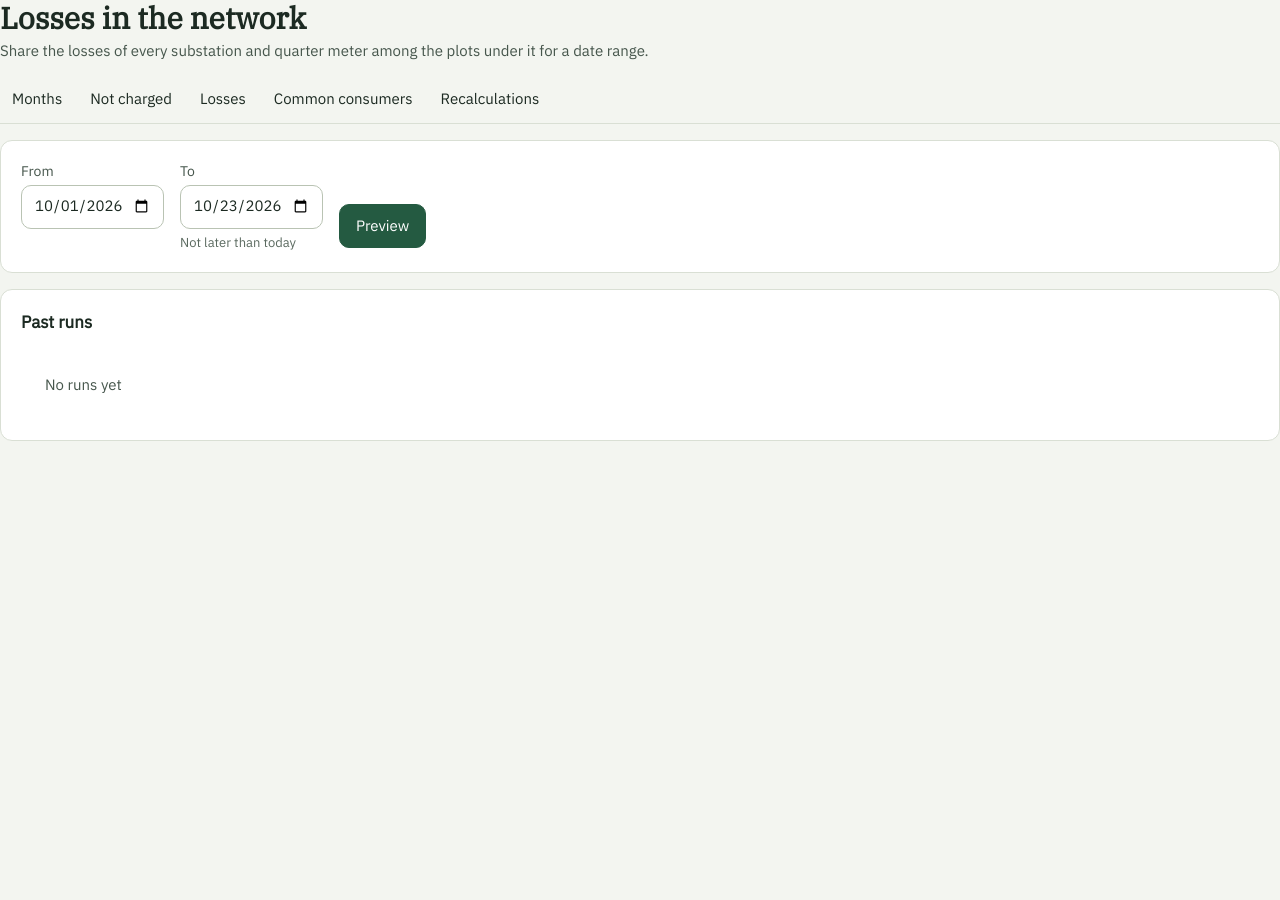
Scenario: LossesPage › books exactly the preview by its digest and reports the created charges
The width and height of the screenshot is (1280, 900).
Step 1. Click the button "Preview" → (383, 226), box [339, 204, 426, 248]
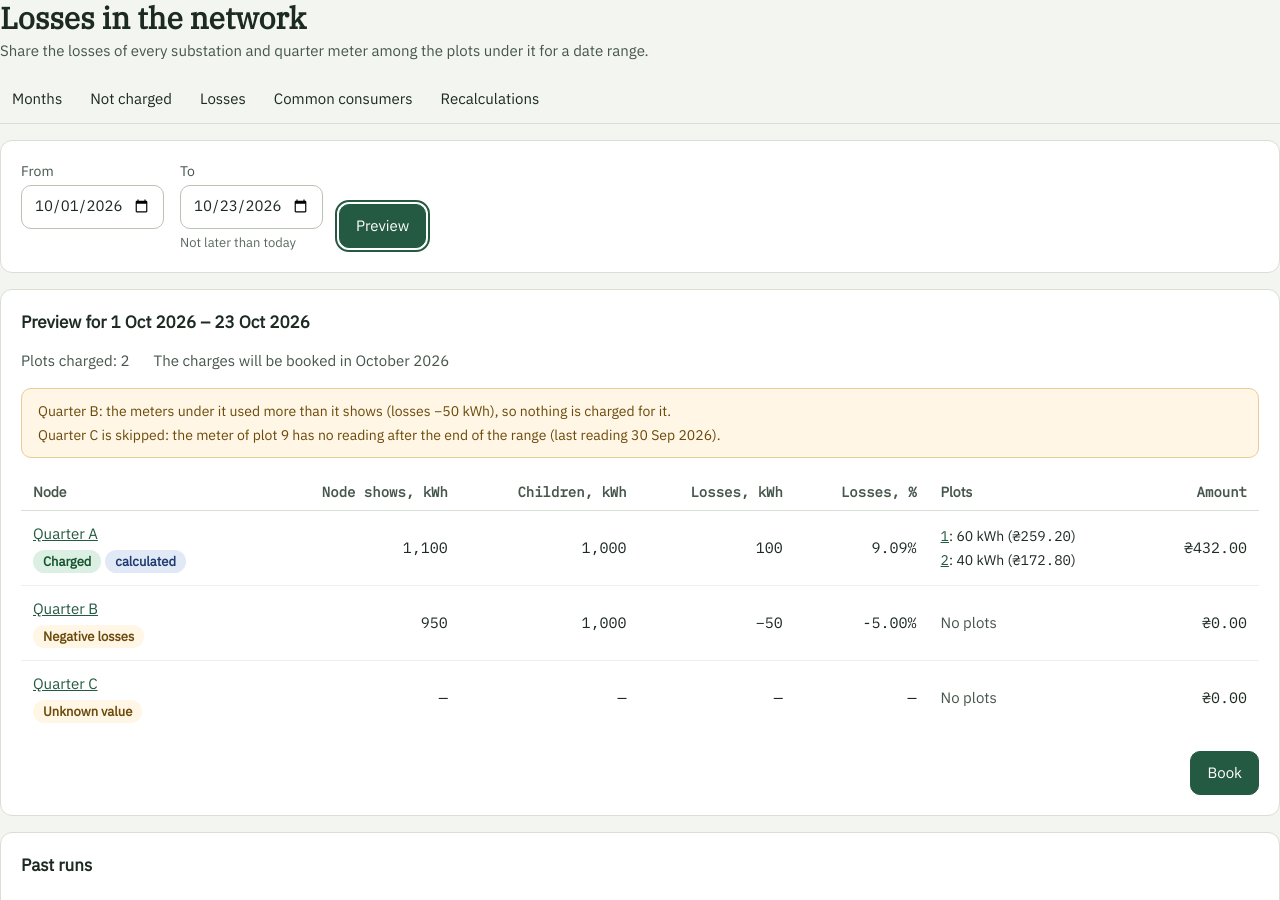
Step 2. Click the button "Book" → (1225, 773), box [1190, 751, 1259, 795]
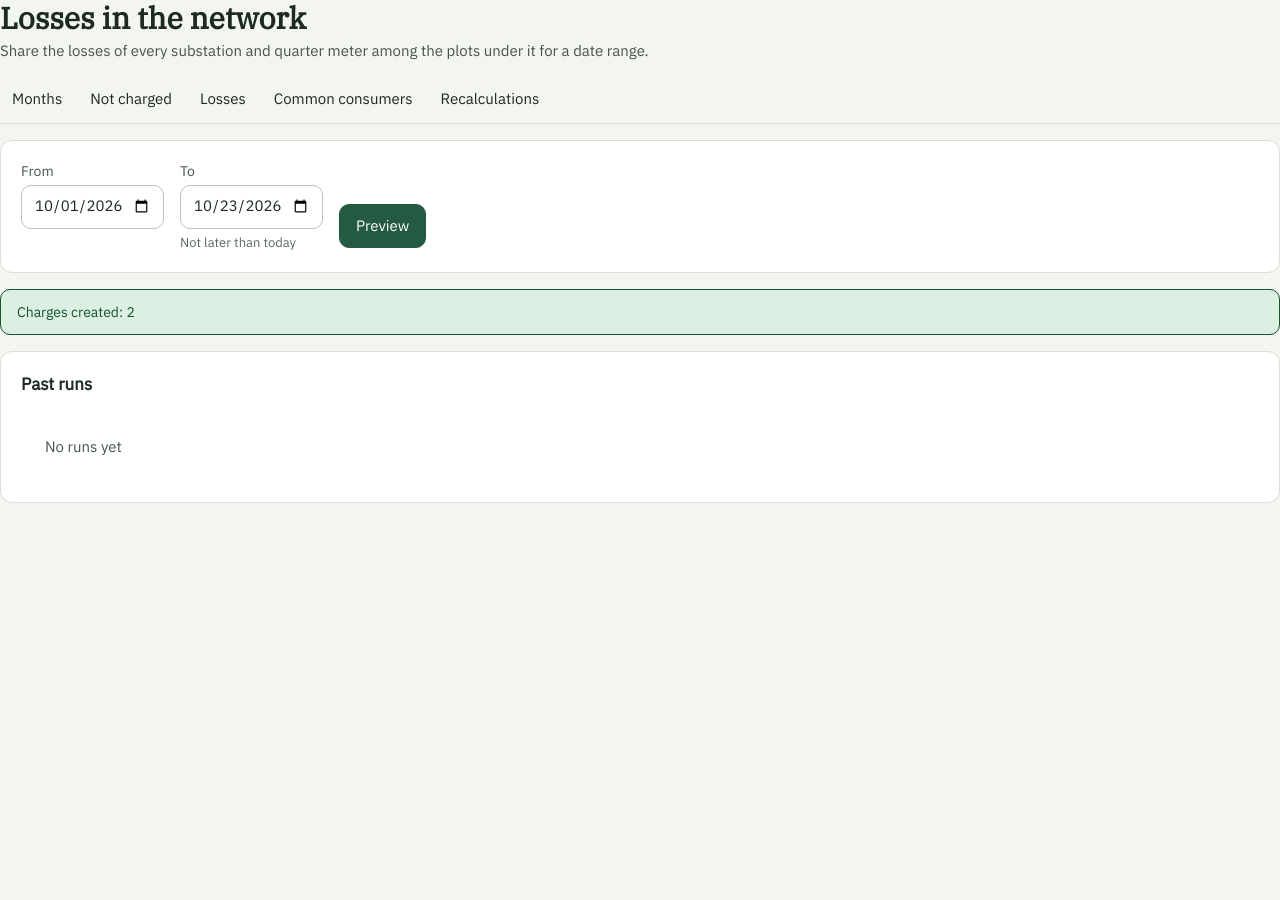
expect the text "Charges created: 2" is shown: met, box [0, 289, 1279, 335]
expect the text "book" is gone: met
